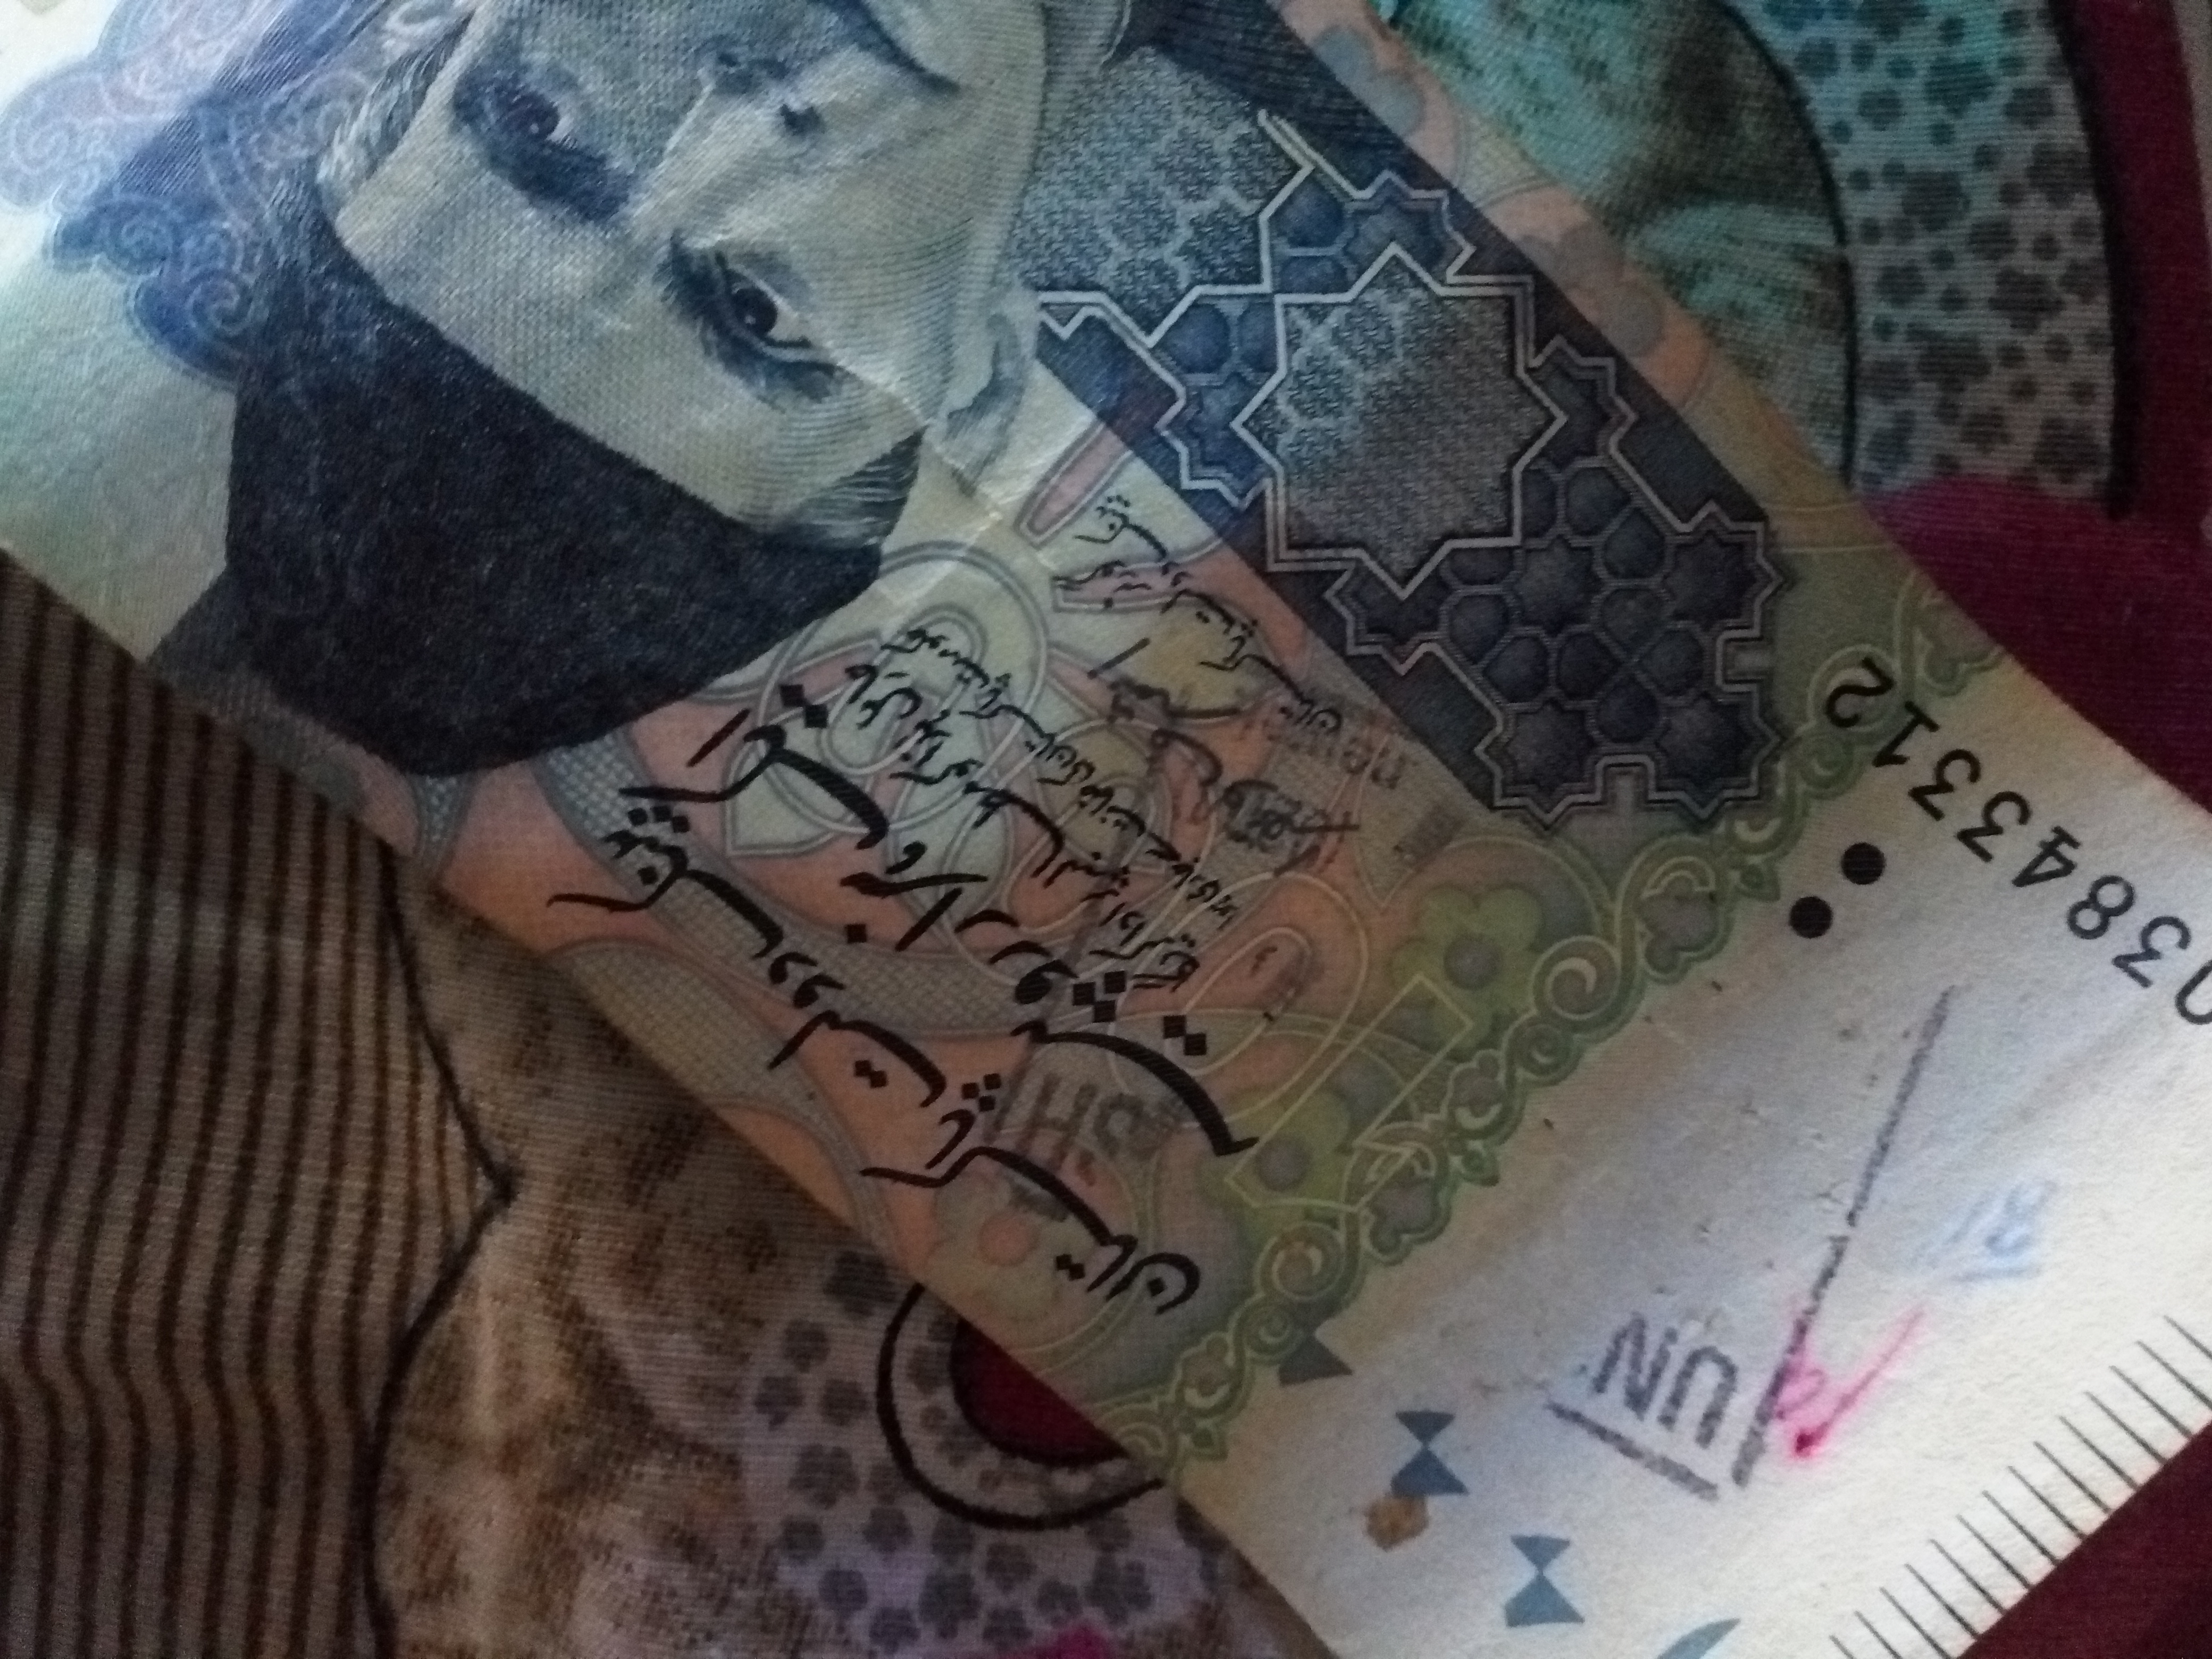1000 rupee: (106, 7, 2193, 1652), (1554, 674, 1893, 1049)
